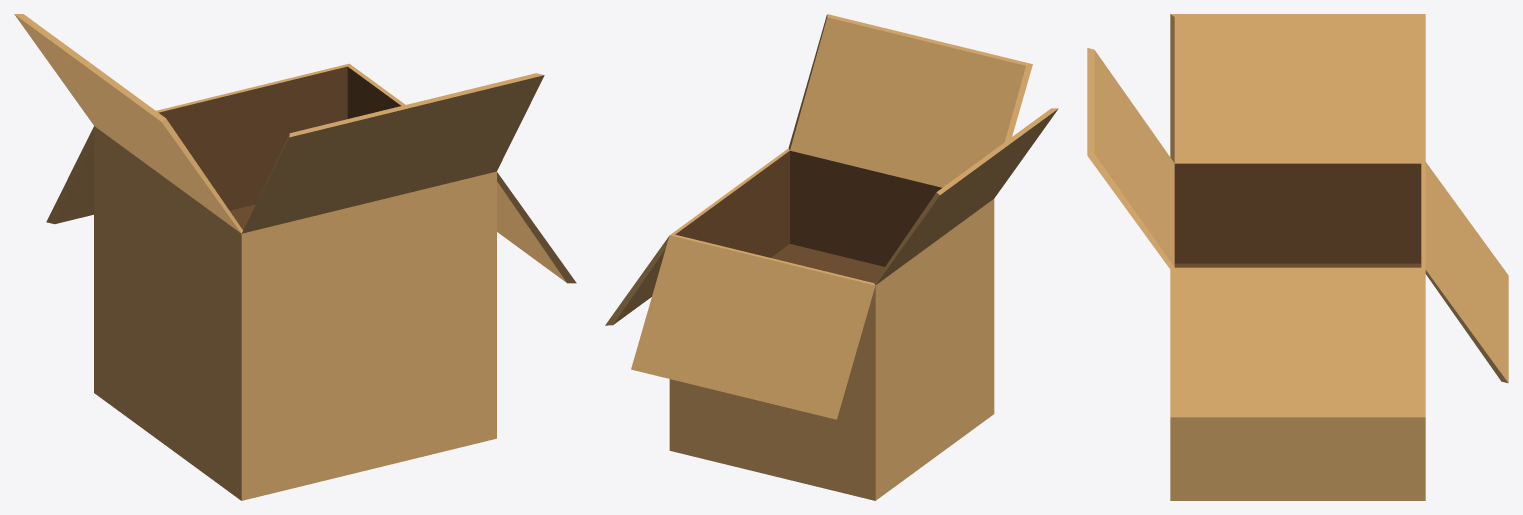
3 views of the same model, side by side, from view 1: azimuth 30°, elevation 25°; view 2: azimuth 150°, elevation 25°; view 3: azimuth 270°, elevation 25° (orthographic). The views are drawn at different scales.
Parts seen in each view (by area): view 1: Cube; view 2: Cube; view 3: Cube.
Boxes of the visible parts, left/top/right/bottom form: Cube: left=14, top=14, right=576, bottom=500; Cube: left=605, top=14, right=1058, bottom=500; Cube: left=1087, top=14, right=1508, bottom=500.
Bounding box in the file's own units: 827 × 758 × 839.
